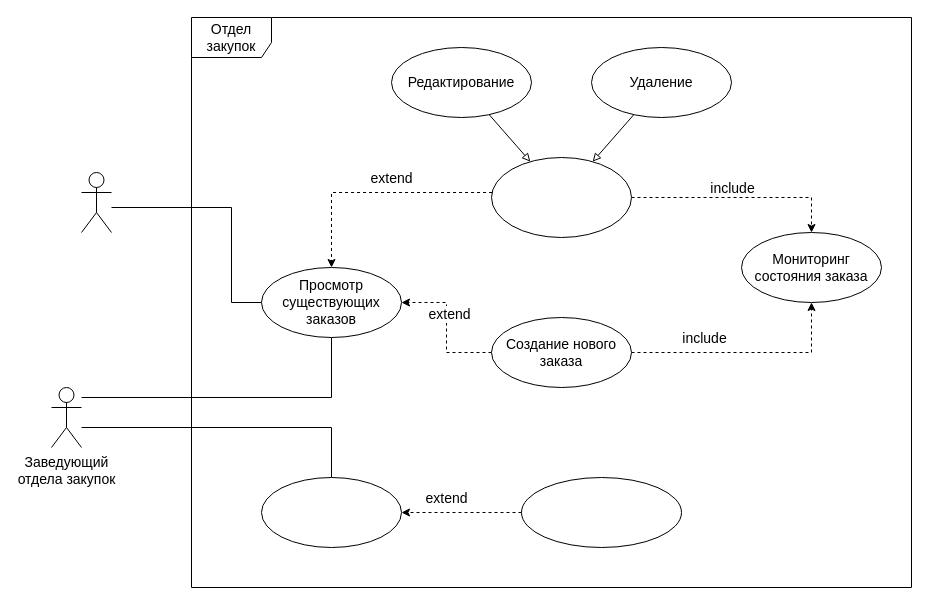
Image size: 929x605. Some labels were removed from this diagram. Each missing label, with the box of its shape:
Менеджер отдела закупок: (80, 172, 112, 232)
Просмотр всех пользователей системы: (260, 476, 402, 548)
Работа с выбранным заказом: (490, 156, 632, 238)
Управление списком пользователей: (520, 476, 682, 548)
